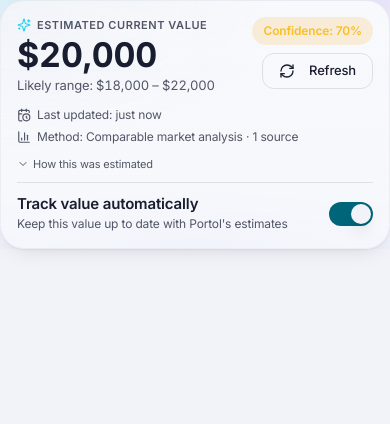
Test: CurrentValueCard + useAssetValuation › the details panel explains methodology, evidence and inputs; Refresh forces a run
The width and height of the screenshot is (390, 424).
Click the button with test id "current-value-details-toggle" at (85, 164), box [17,156,153,172]
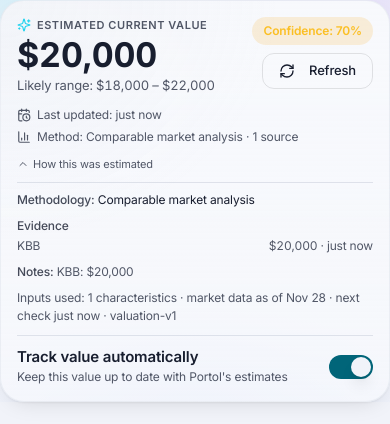
Result: the element with test id "current-value-details" shows "Comparable market analysis" at [98,192,255,207]
Result: the element with test id "current-value-details" shows "KBB" at [17,238,40,253]
Result: the element with test id "current-value-details" shows "1 characteristics" at [17,182,373,325]
Click the button with test id "current-value-refresh" at (318, 71), box [262,53,373,89]
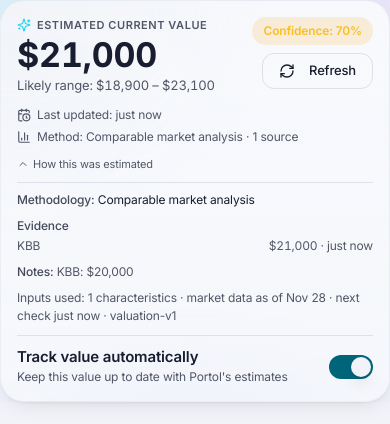
Result: the text with test id "current-value-amount" reads "$21,000" at [17,34,157,74]
